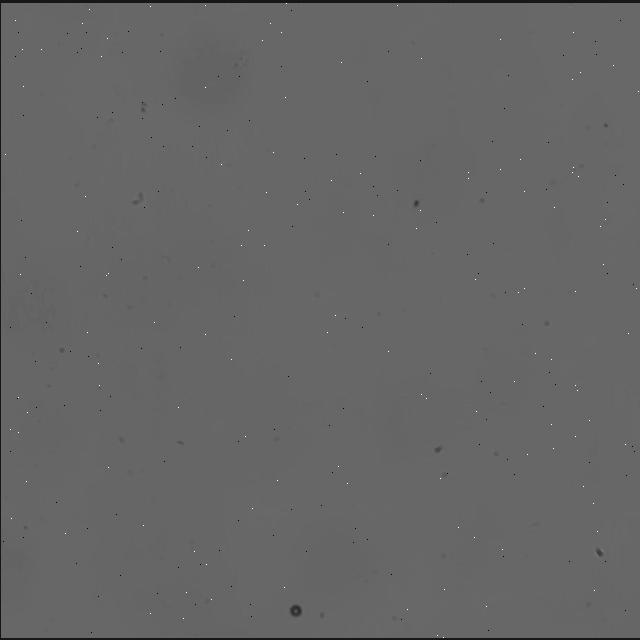microbeads: (289, 602, 305, 620)
